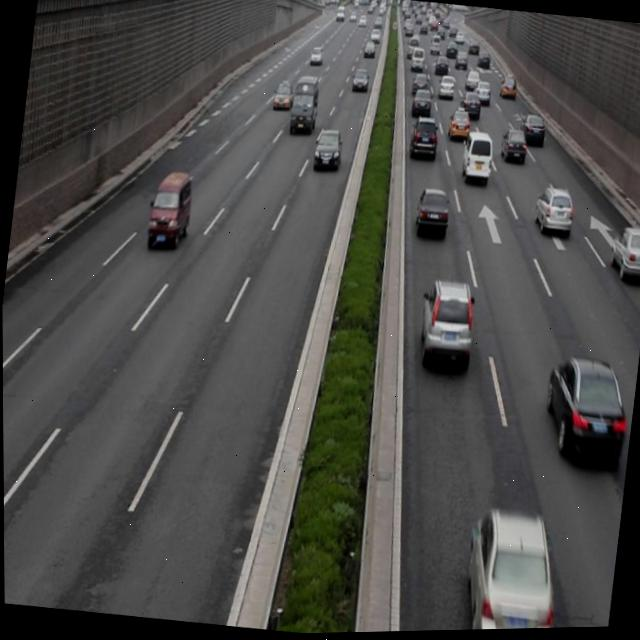car: (455, 510, 561, 632), (538, 353, 626, 467), (413, 277, 478, 377), (530, 188, 572, 239), (606, 226, 640, 285), (411, 187, 448, 239), (406, 115, 440, 163), (311, 129, 343, 176), (517, 114, 545, 148), (445, 108, 470, 144), (498, 130, 526, 162)
truck: (144, 168, 194, 252), (458, 130, 494, 184), (288, 77, 319, 134)
